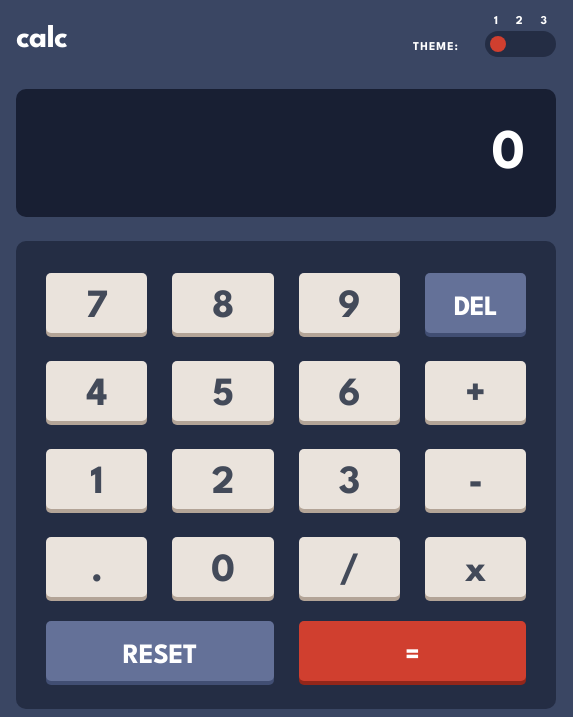
Test: Validate all possible math › While using desktop size › When clicked on 1 + 5 and =, then should display 6 as result
This screenshot has width=573, height=717.
Click the button with test id "numpad-id-1": (97, 479) [46,449,147,509]
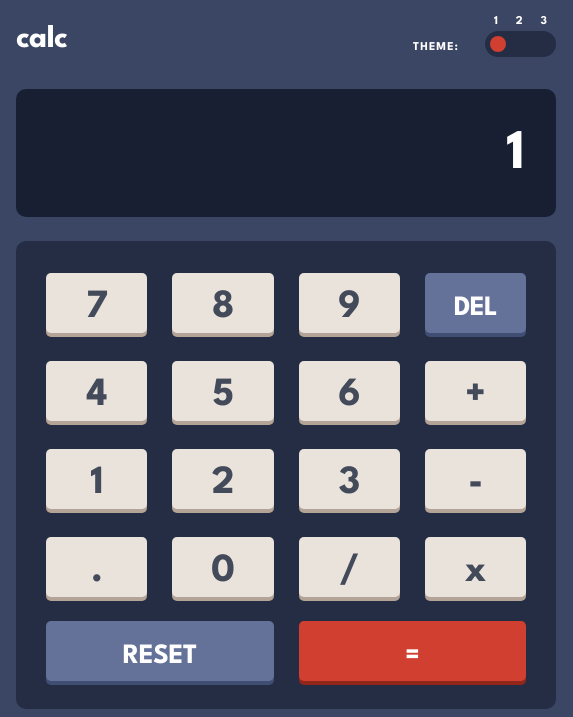
Click the button with test id "numpad-id-+": (476, 391) [425,361,526,421]
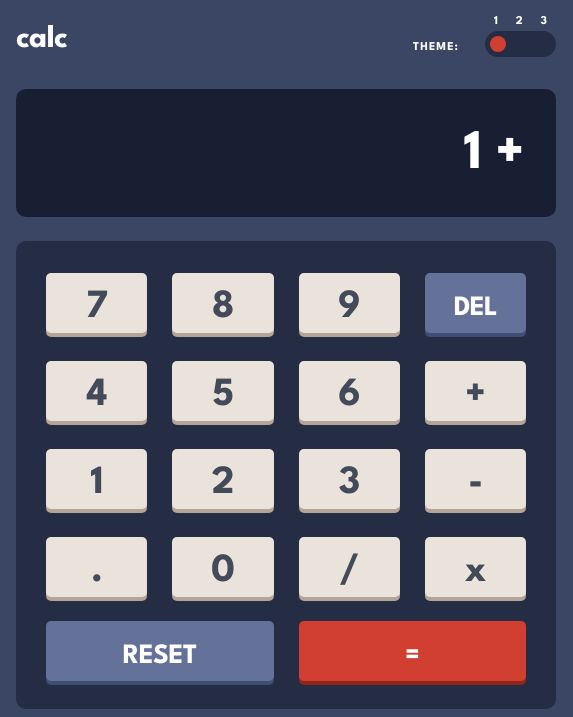
Click the button with test id "numpad-id-5": (223, 391) [172,361,273,421]
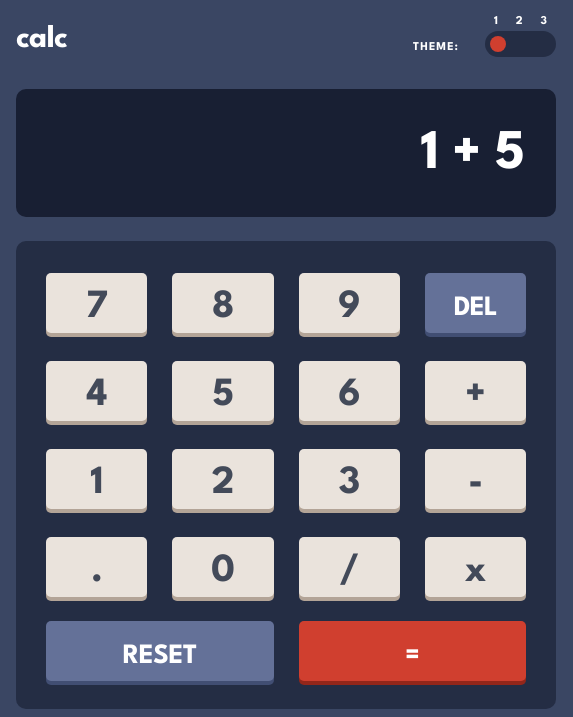
Click the button with test id "numpad-id-=": (413, 651) [299,621,527,681]
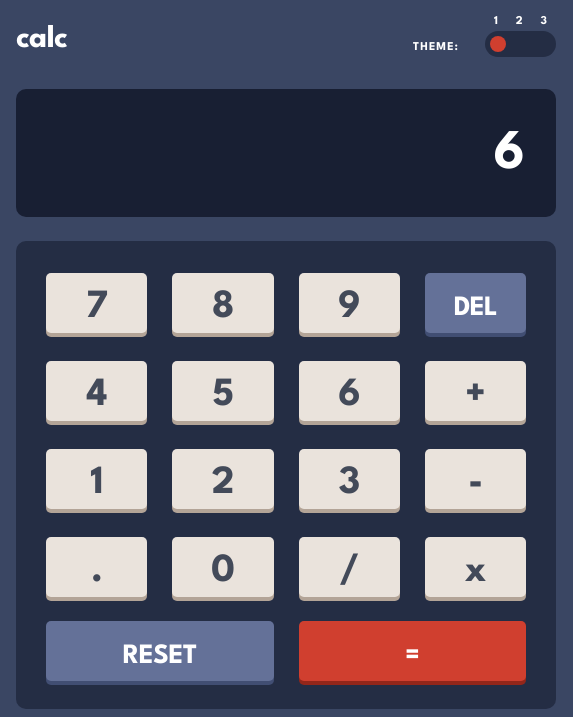
Check: the heading with test id "result-display" reads "6", box [16,89,556,217]
